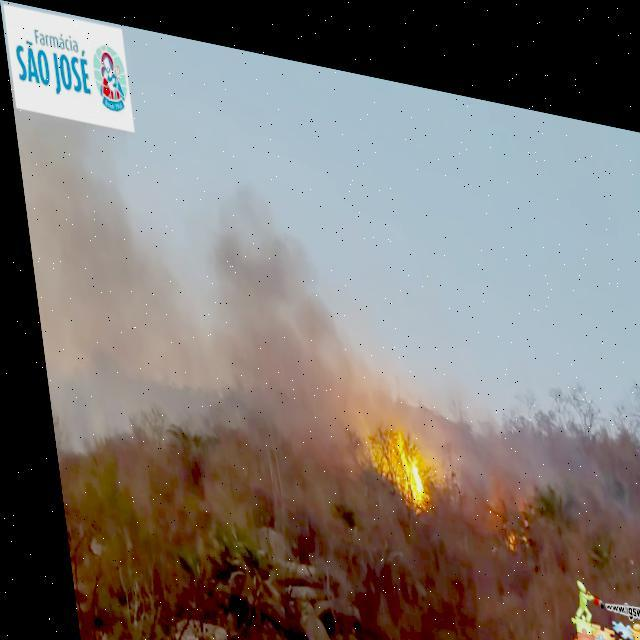Fire: (350, 409, 422, 493), (493, 512, 505, 532)
